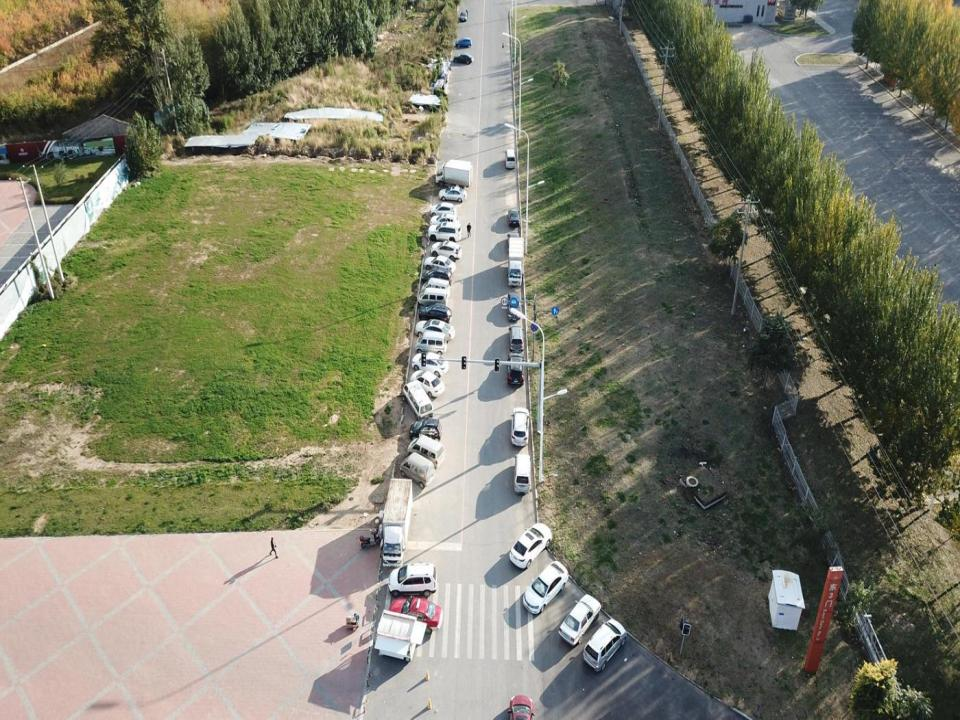car: (522, 559, 568, 617), (584, 620, 626, 675), (560, 594, 600, 647), (388, 598, 442, 636), (510, 523, 552, 571), (388, 564, 436, 598), (412, 370, 445, 398), (414, 320, 455, 342), (412, 352, 448, 376), (510, 406, 528, 448), (418, 304, 452, 326), (428, 222, 462, 243), (506, 696, 536, 719), (431, 240, 462, 262), (411, 420, 443, 440), (424, 256, 456, 276), (507, 352, 525, 386), (422, 267, 452, 287), (431, 212, 459, 232), (439, 185, 467, 201), (431, 202, 456, 219), (508, 323, 523, 350), (508, 292, 521, 320), (452, 52, 474, 65), (508, 231, 521, 250), (508, 208, 519, 228), (456, 36, 472, 48), (458, 10, 468, 22)
truck: (384, 477, 413, 561), (435, 159, 472, 186), (508, 238, 525, 288)
van: (406, 436, 446, 470), (404, 378, 434, 421), (399, 453, 434, 489), (512, 455, 532, 496), (418, 286, 448, 309), (421, 278, 453, 299), (505, 149, 515, 169)
